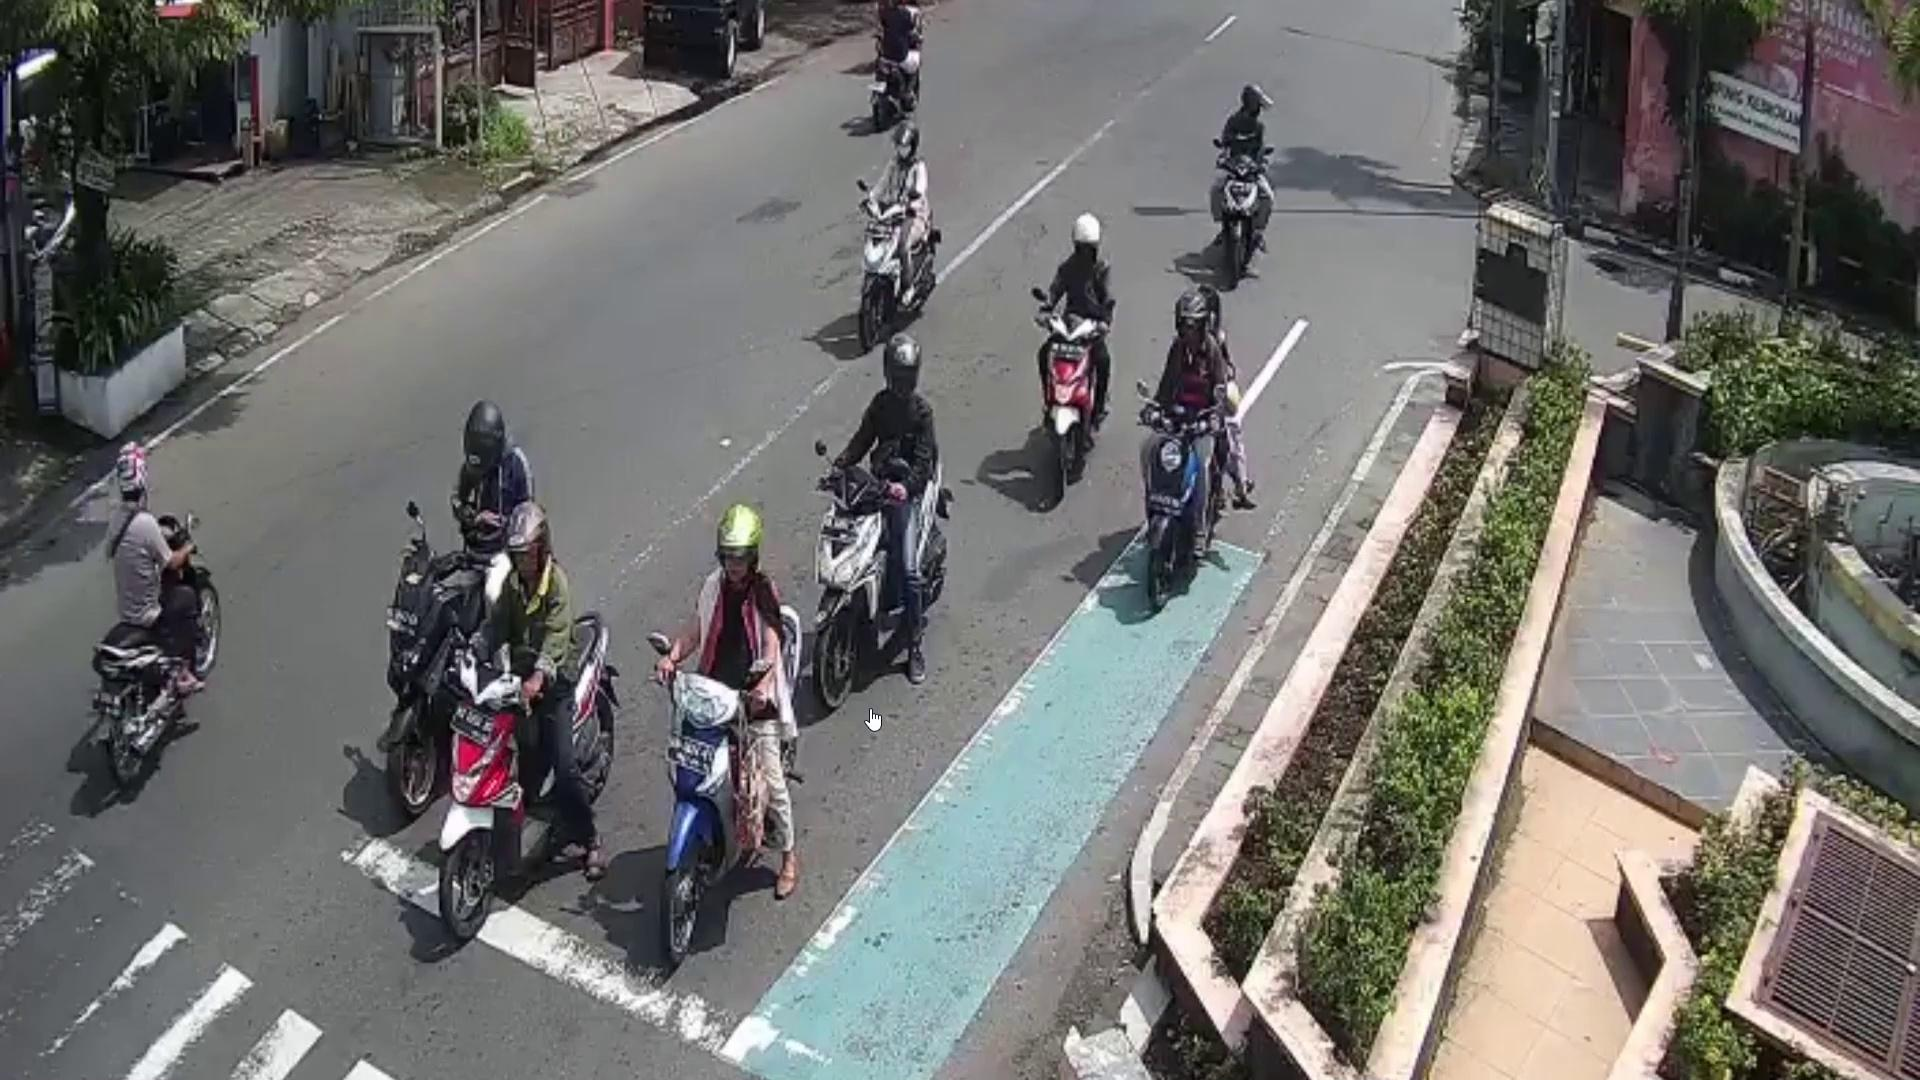motorbike: (440, 608, 611, 948), (659, 600, 806, 948), (818, 444, 947, 728), (92, 513, 222, 791), (382, 542, 484, 822), (1146, 406, 1208, 607), (1042, 311, 1097, 493), (1211, 157, 1273, 291), (856, 202, 913, 343)
